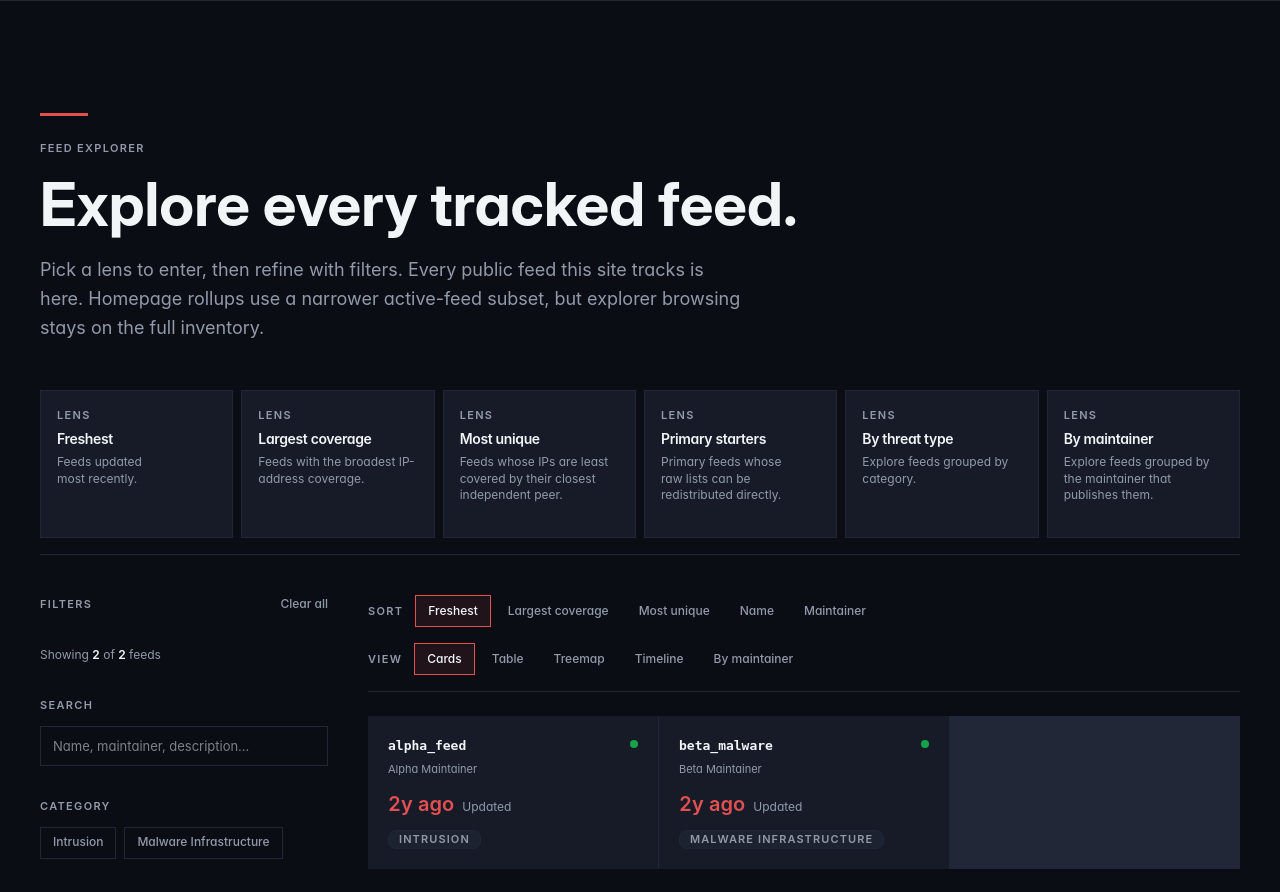
Test: filters visible feeds and keeps the result set when switching views
Expected: the link "alpha_feed" is shown, [388,738,466,753]
Expected: the link "beta_malware" is shown, [679,738,773,753]
In the search field named "filter feeds": (184, 746) [40,726,328,766], type "beta"
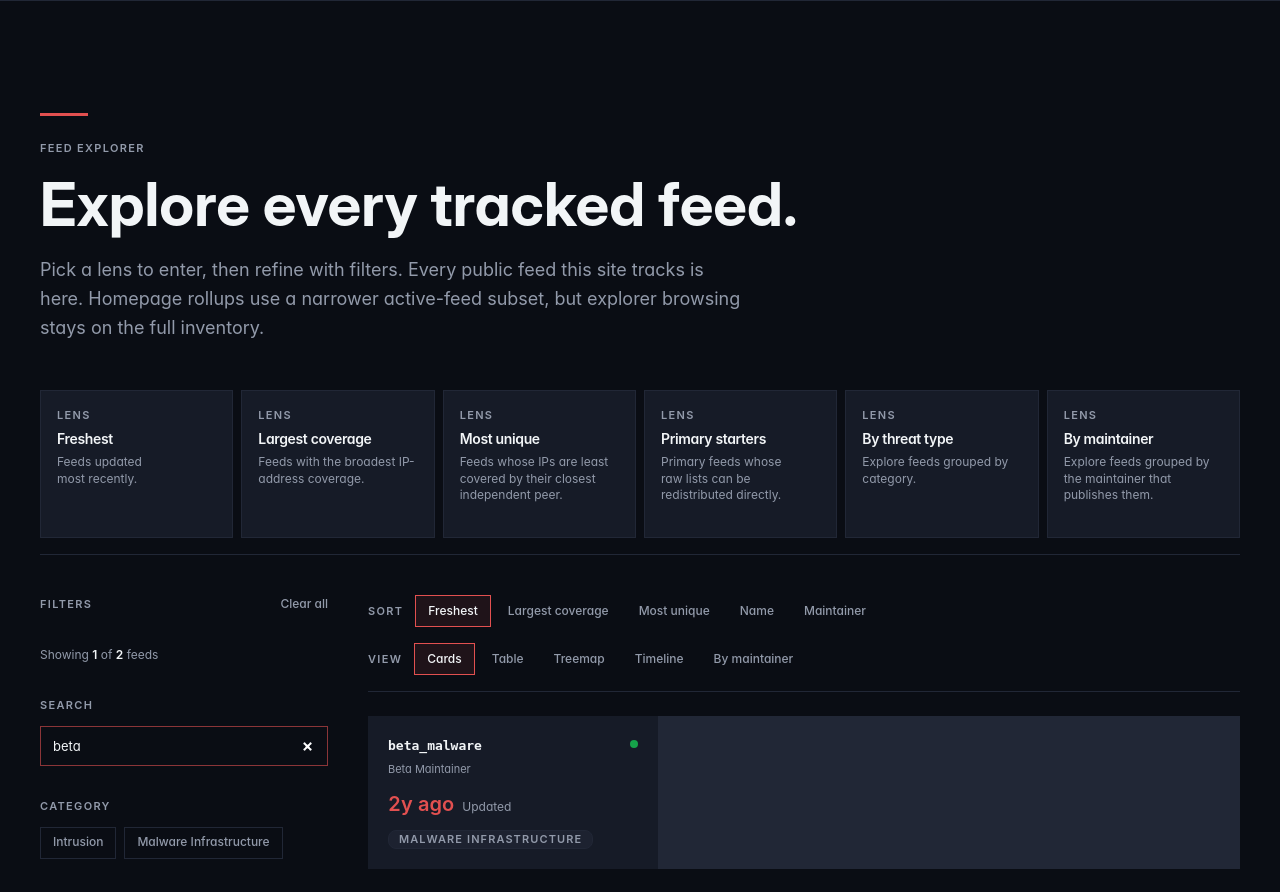
Expected: the link "beta_malware" is shown, [388,738,482,753]
Expected: the link "alpha_feed" is gone
Expected: the text "Showing 1 of 2 feeds" is shown, [40,647,158,662]
Click the button "Table": (508, 659) [479,643,536,675]
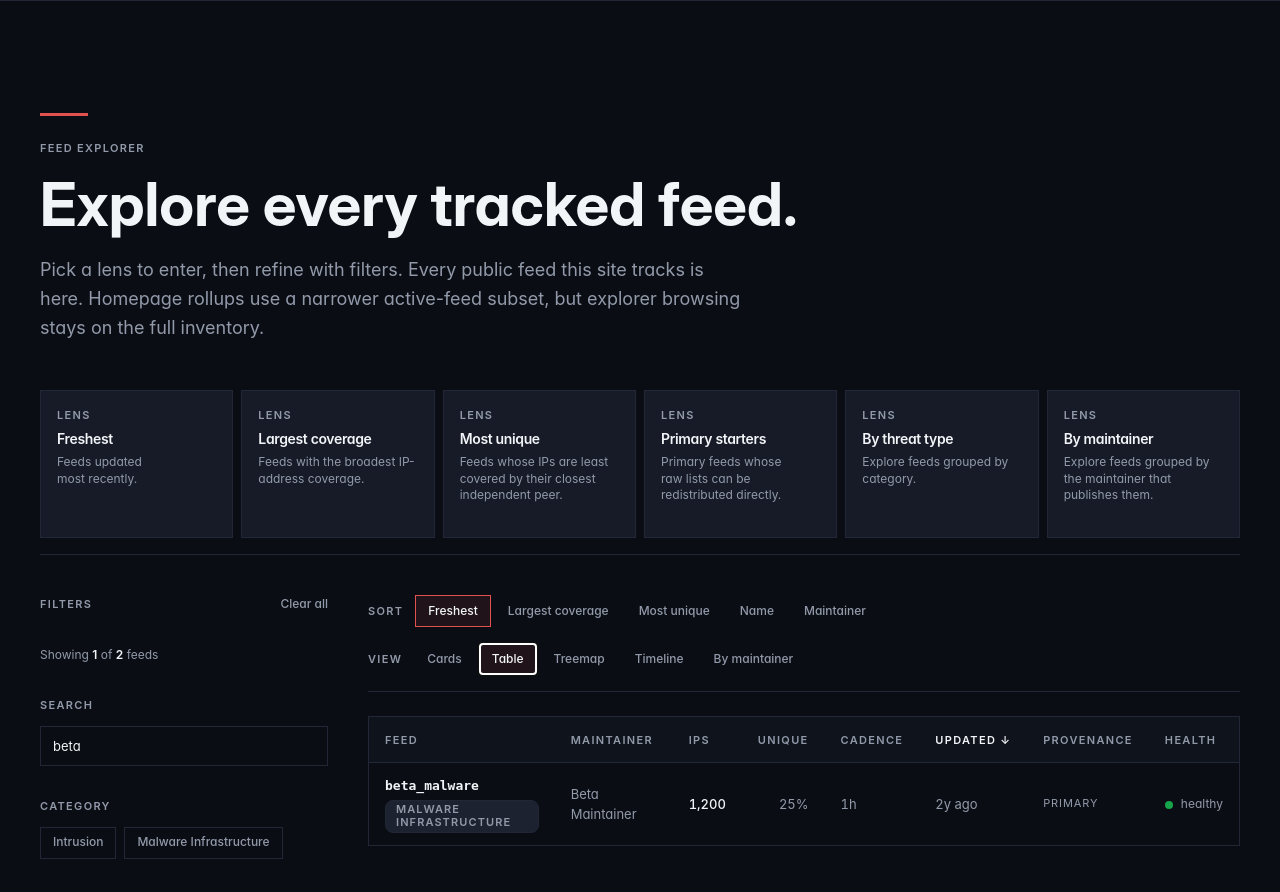
Expected: the link "alpha_feed" is not shown
Hover over the link "beta_malware": (432, 785) [385,778,479,793]
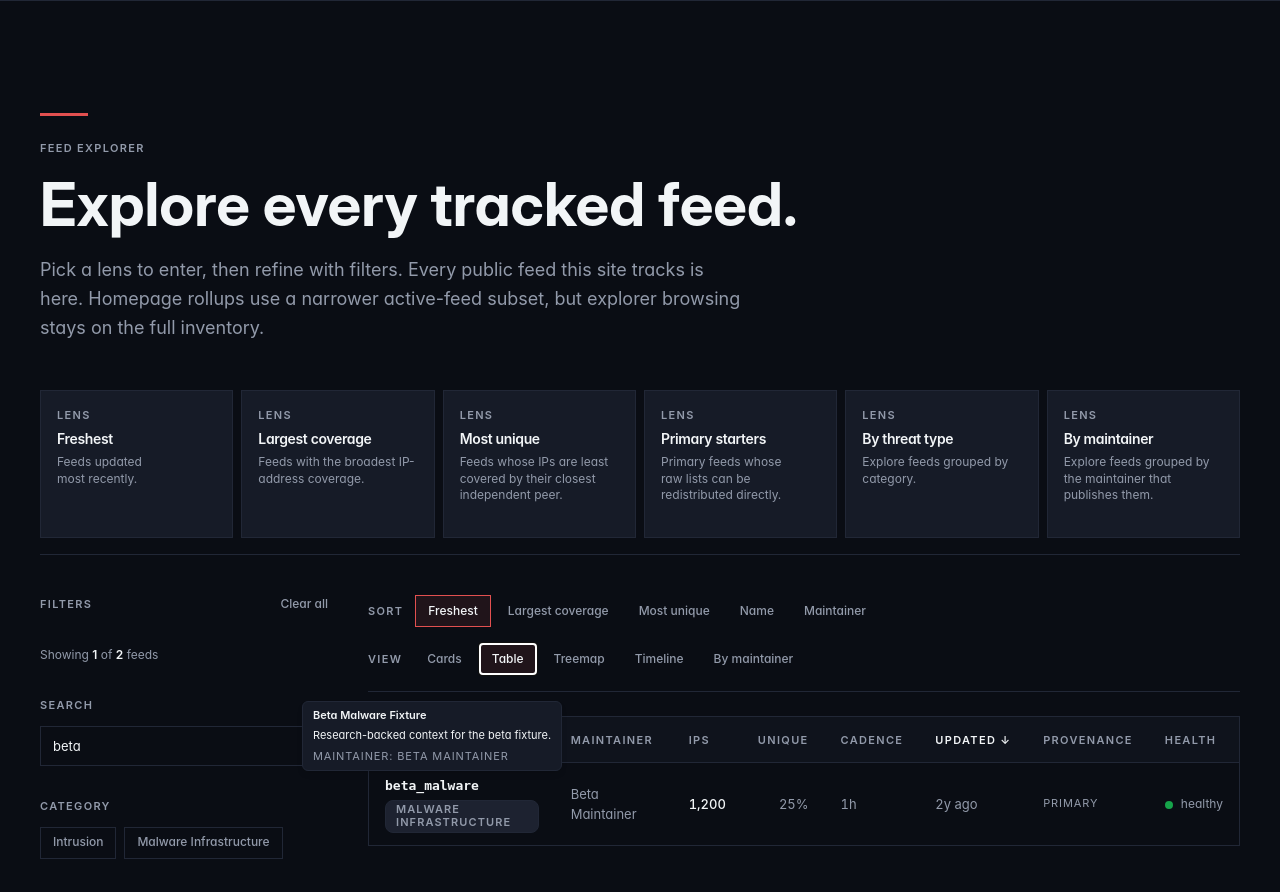
Expected: the text "Beta Malware Fixture" is shown, [313,708,426,722]
